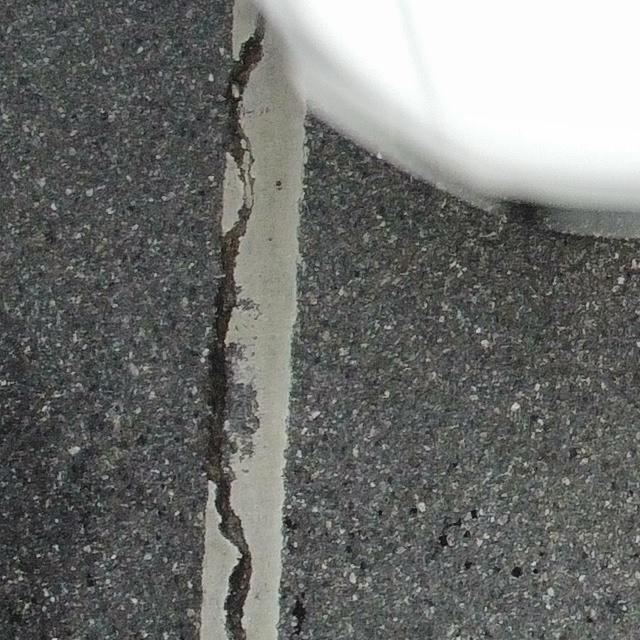LongitudinalCrack: (205, 13, 268, 640)
